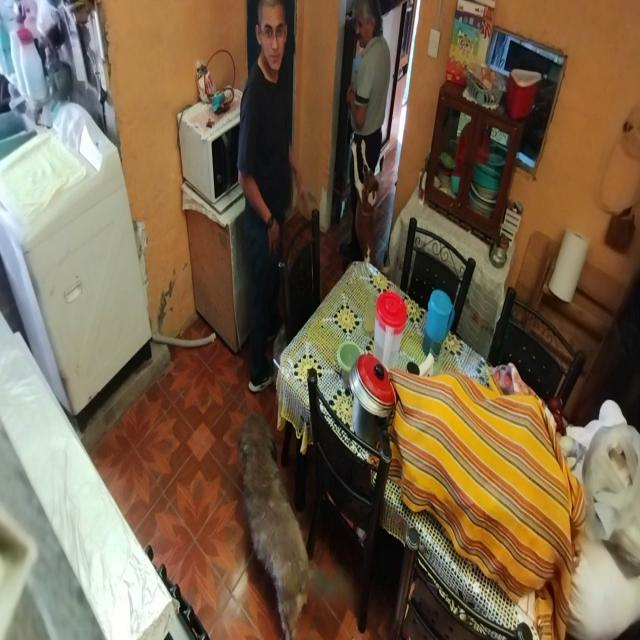adult: (236, 0, 298, 395), (340, 2, 390, 270)
